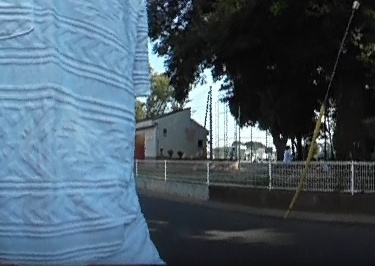person: (282, 144, 291, 163)
